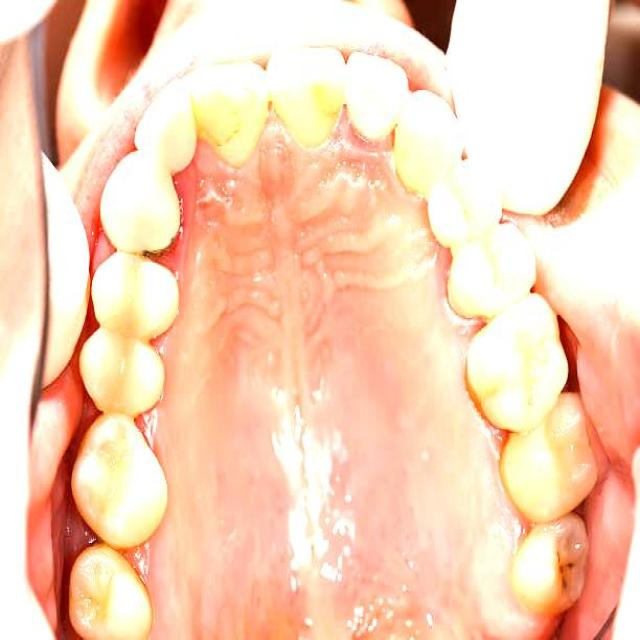caries: (552, 546, 588, 597)
